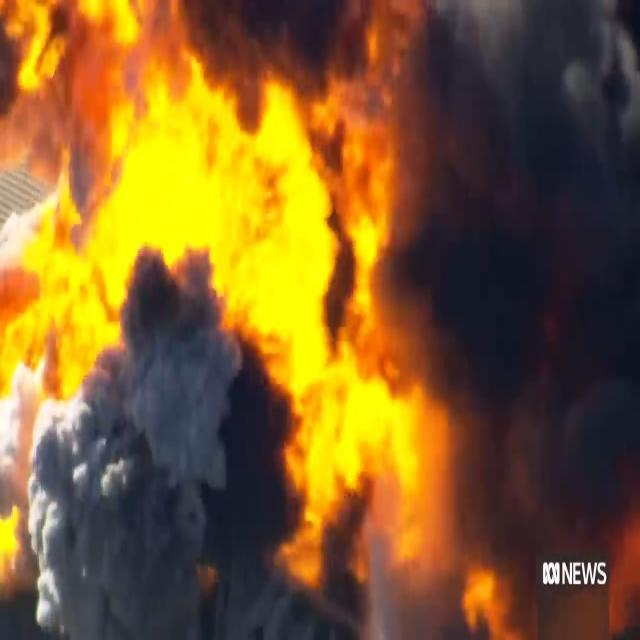fire: (0, 0, 128, 516), (262, 87, 346, 370), (136, 78, 240, 262), (292, 360, 420, 476), (346, 47, 409, 176), (350, 180, 390, 314), (232, 136, 276, 252), (222, 221, 266, 323), (296, 488, 338, 580), (99, 0, 168, 56), (463, 577, 519, 639), (1, 508, 23, 578)
